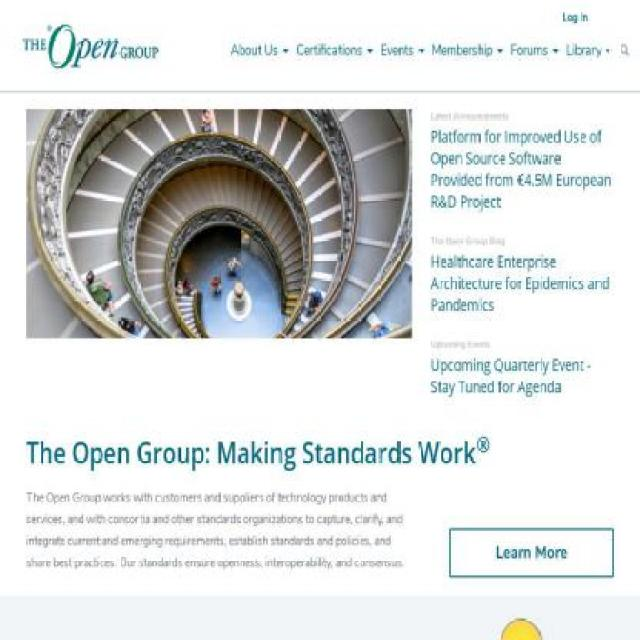button: (429, 125, 614, 213), (429, 251, 614, 315), (449, 528, 614, 578), (429, 354, 614, 398), (12, 20, 165, 72), (292, 28, 377, 74), (428, 28, 507, 74), (227, 28, 293, 74), (507, 28, 562, 74), (562, 28, 616, 74), (376, 28, 429, 74), (553, 0, 597, 38), (612, 37, 637, 66)
field: (608, 37, 612, 66)
